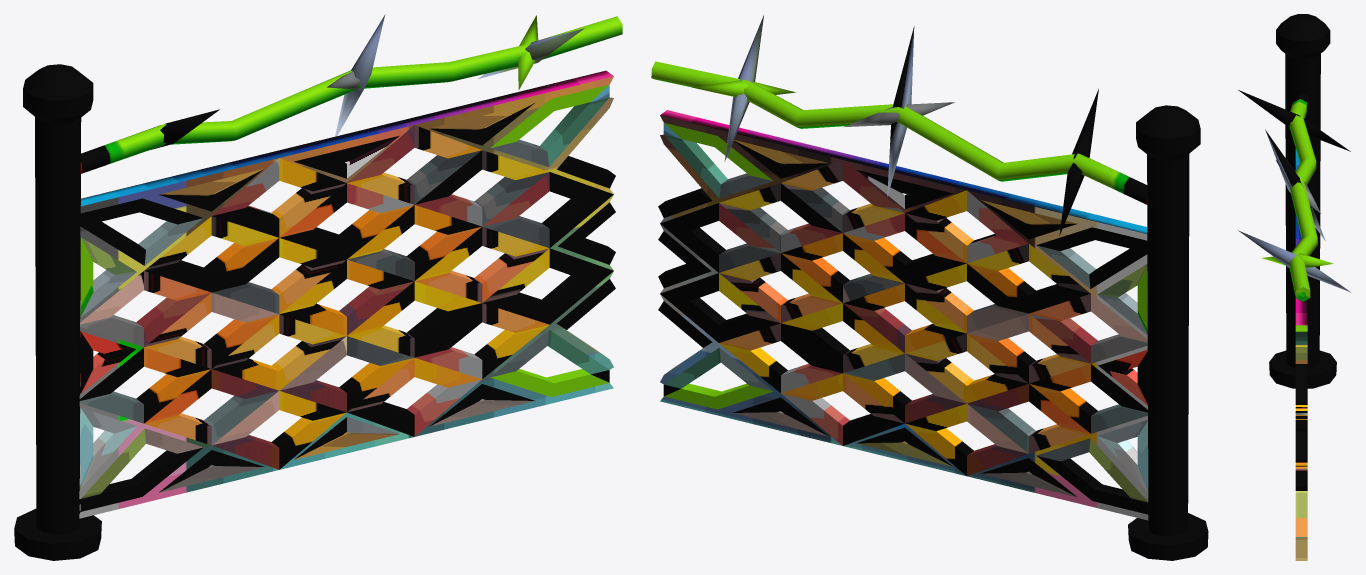
File: Fence_4.FBX
3 renders of one model, left to right at view 1: azimuth 30°, elevation 25°; view 2: azimuth 150°, elevation 25°; view 3: azimuth 270°, elevation 25°, orthographic. The views are drawn at different scales.
Visible parts, largest first — view 1: Fence_4; view 2: Fence_4; view 3: Fence_4.
Part boxes in pixels (x1=…): Fence_4: x1=14, y1=14, x2=622, y2=560; Fence_4: x1=651, y1=15, x2=1208, y2=560; Fence_4: x1=1238, y1=14, x2=1350, y2=560.
Size of the model in its own units: 156 by 119 by 34.3.
Materials: 1 (1 with a texture image).
